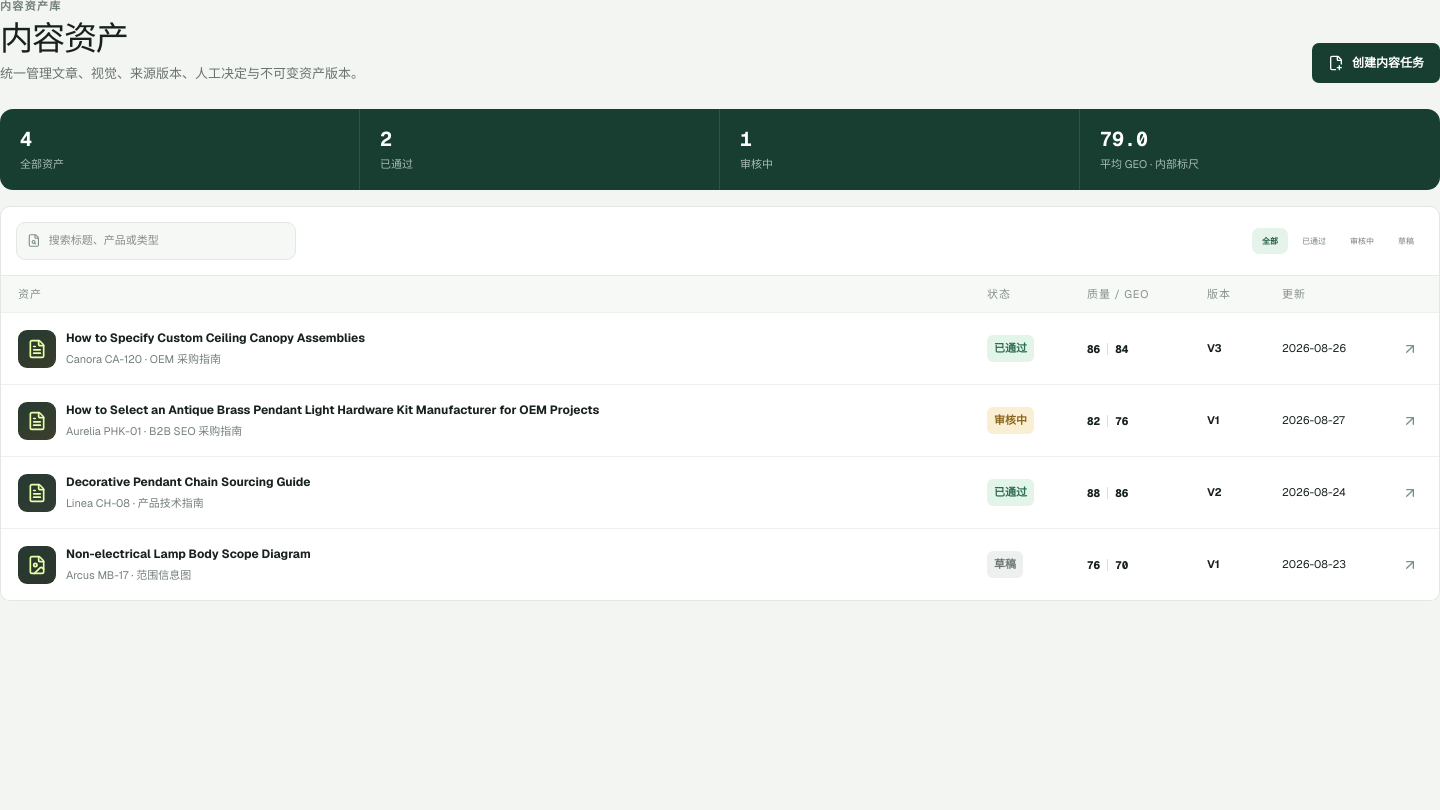
it: workflow-facing components › shows the full V1–V3 history for a selected asset
Click the button "How to Specify Custom Ceiling Canopy" at (37, 349), box [1, 312, 1439, 384]
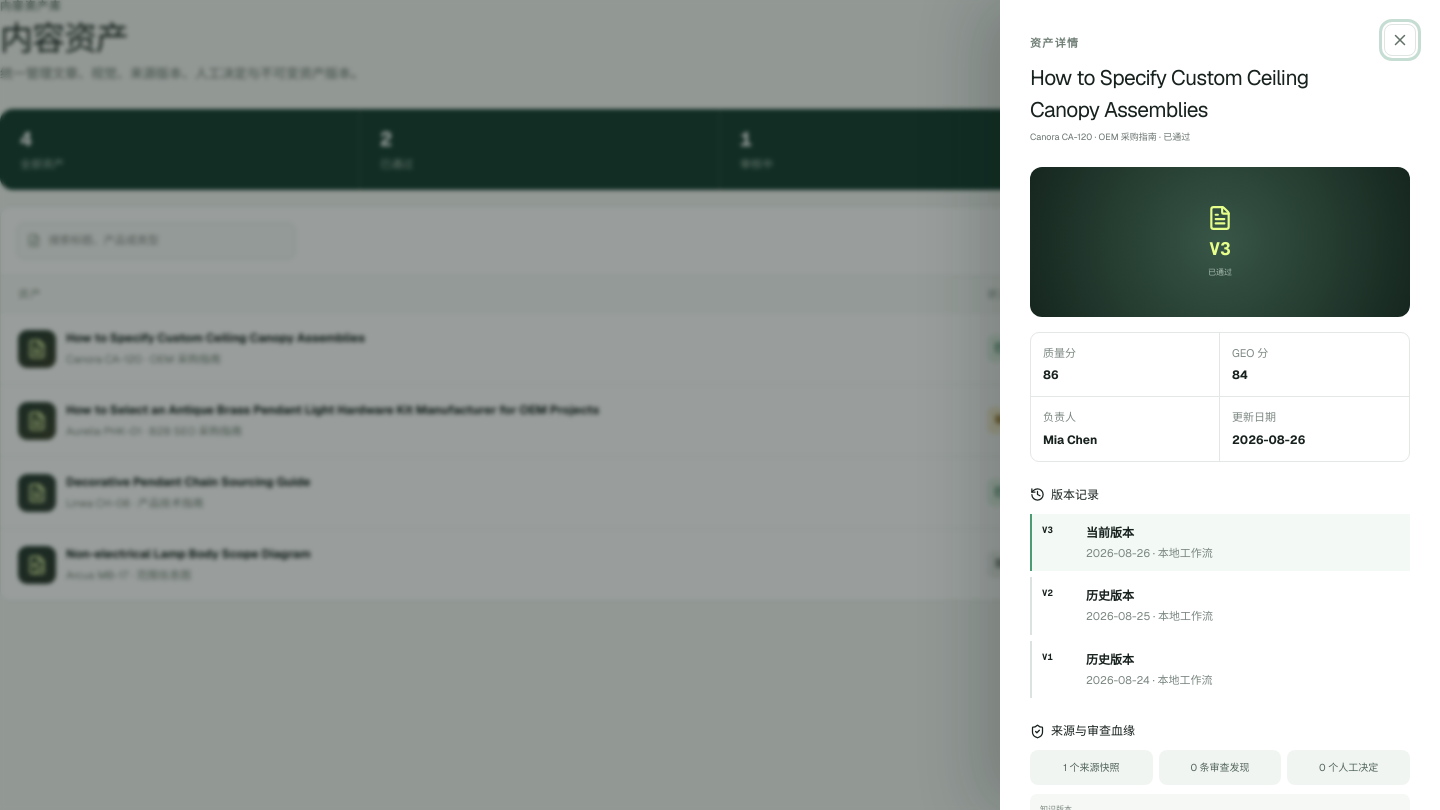
expect the dialog "How to Specify Custom Ceiling Canopy Assemblies" is shown: met, box [1000, 0, 1439, 809]
expect the button "V3 当前版本 2026-08-26 · 本地工作流" is shown: met, box [1030, 514, 1410, 571]
expect the button "V2 历史版本 2026-08-25 · 本地工作流" is shown: met, box [1030, 577, 1410, 634]
